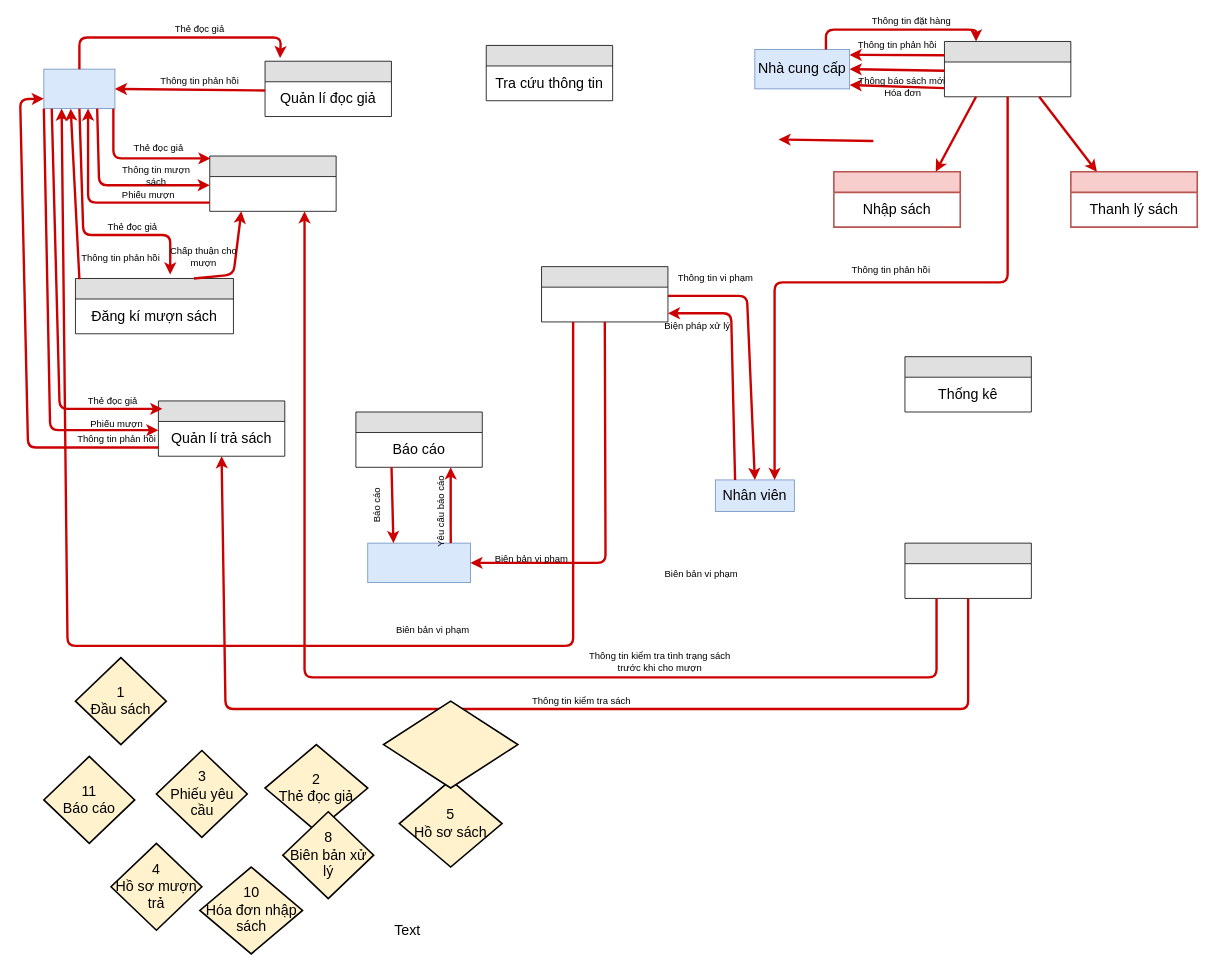
This 1212x968 diagram has some shape labels left out. The box of each missing label's shape, as (x1, y1, x2, y2) in pixels:
7 Hồ sơ đọc giả: (382, 700, 518, 788)
LĐ nhà trường: (367, 542, 470, 583)
Quản lí mượn sách: (209, 155, 336, 211)
Quản lí nhân viên: (904, 542, 1031, 598)
Quản lí sách: (944, 41, 1071, 97)
Quản lí vi phạm: (541, 266, 668, 322)
Đọc giả: (43, 68, 115, 109)
